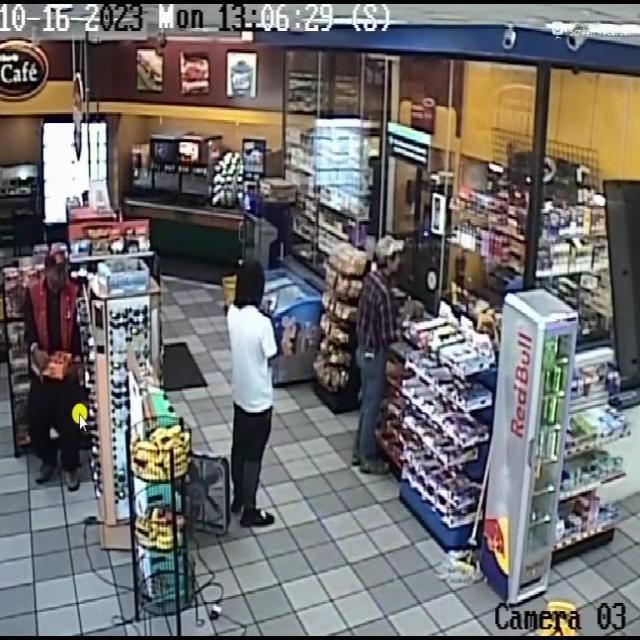Normal: (219, 253, 286, 532), (344, 230, 407, 480), (30, 242, 96, 480)
